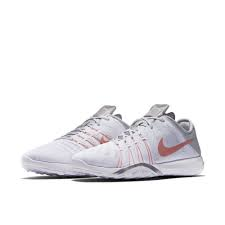nike: (156, 136, 196, 157)
